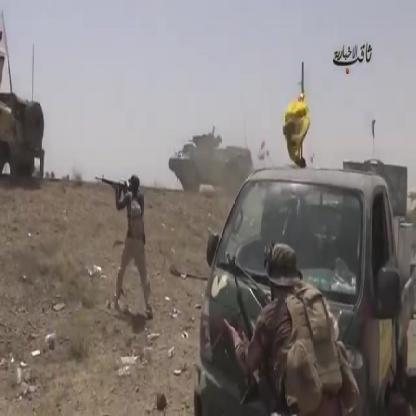Gun: (92, 168, 130, 202)
